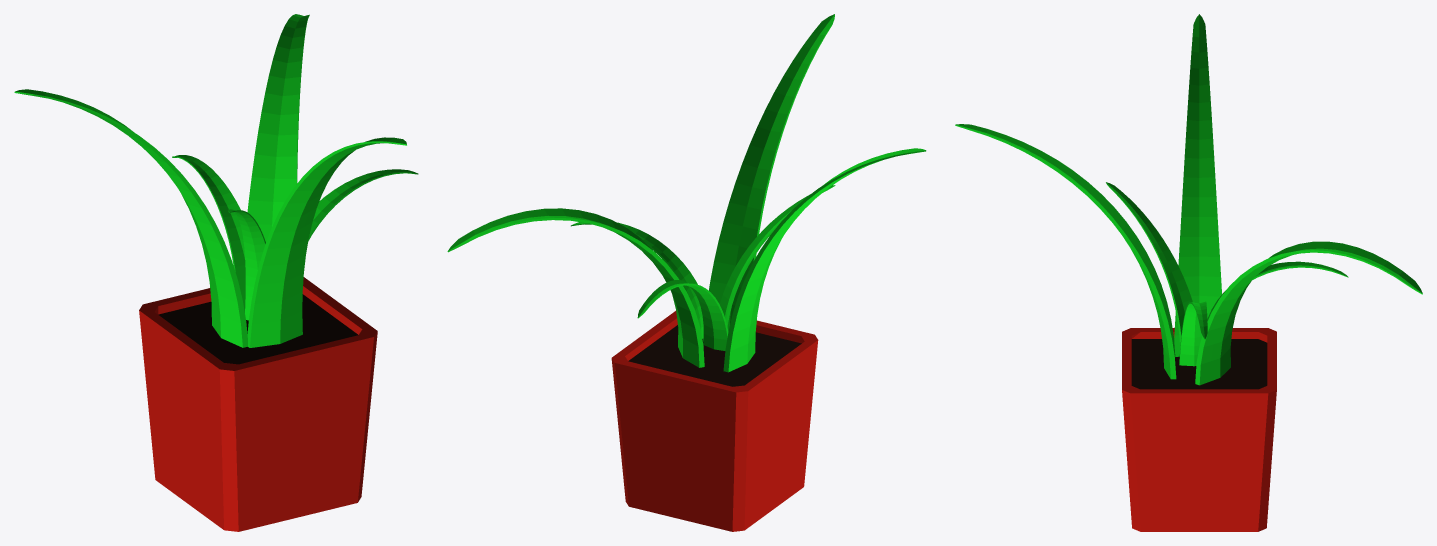
File: Plant Pot 2.fbx
3 views of the same model, side by side, from view 1: azimuth 30°, elevation 25°; view 2: azimuth 150°, elevation 25°; view 3: azimuth 270°, elevation 25° (orthographic). The views are drawn at different scales.
Parts seen in each view (by area): view 1: Node 0; view 2: Node 0; view 3: Node 0.
Part boxes in pixels (x1,y1,x2,y2): Node 0: (14, 14, 418, 531); Node 0: (447, 14, 926, 531); Node 0: (955, 14, 1422, 531).
Bounding box in the file's own units: 0.4691 × 0.4296 × 0.4151.
